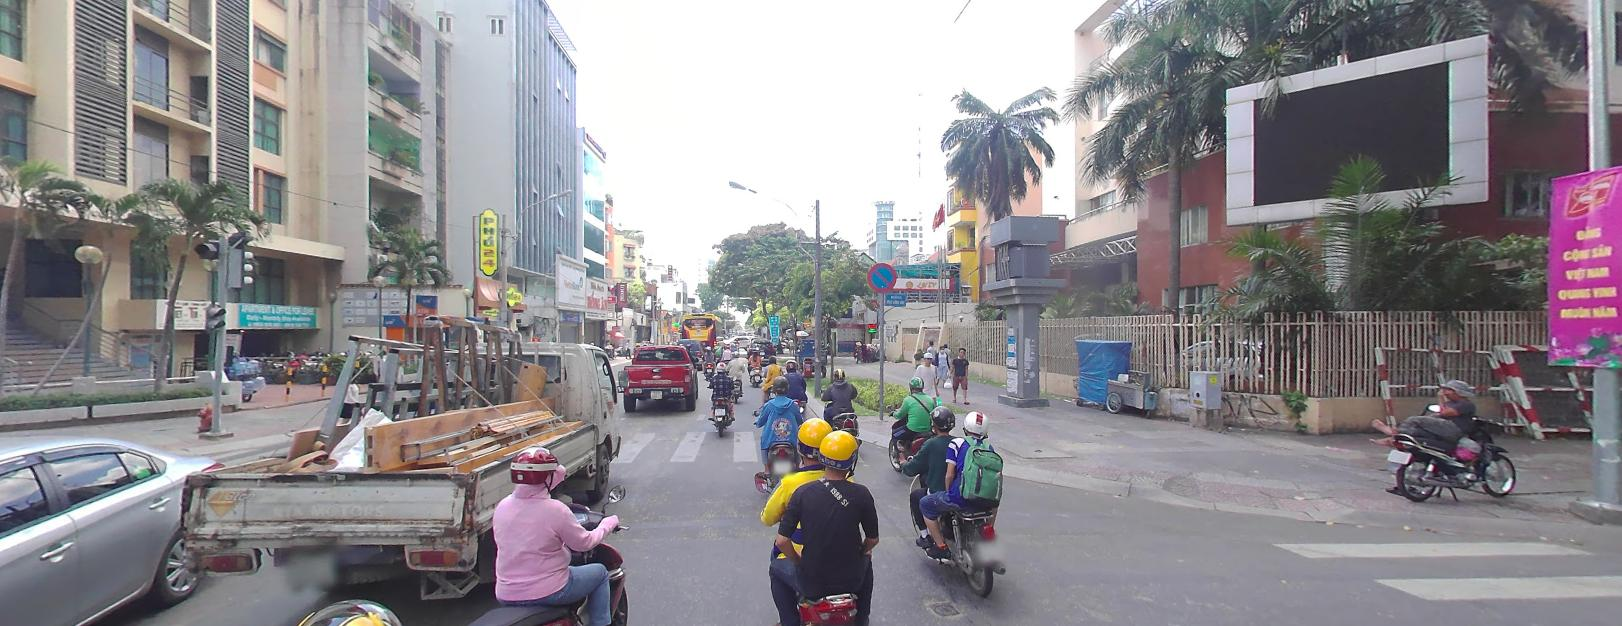Cam dung va do: (863, 260, 900, 294)
